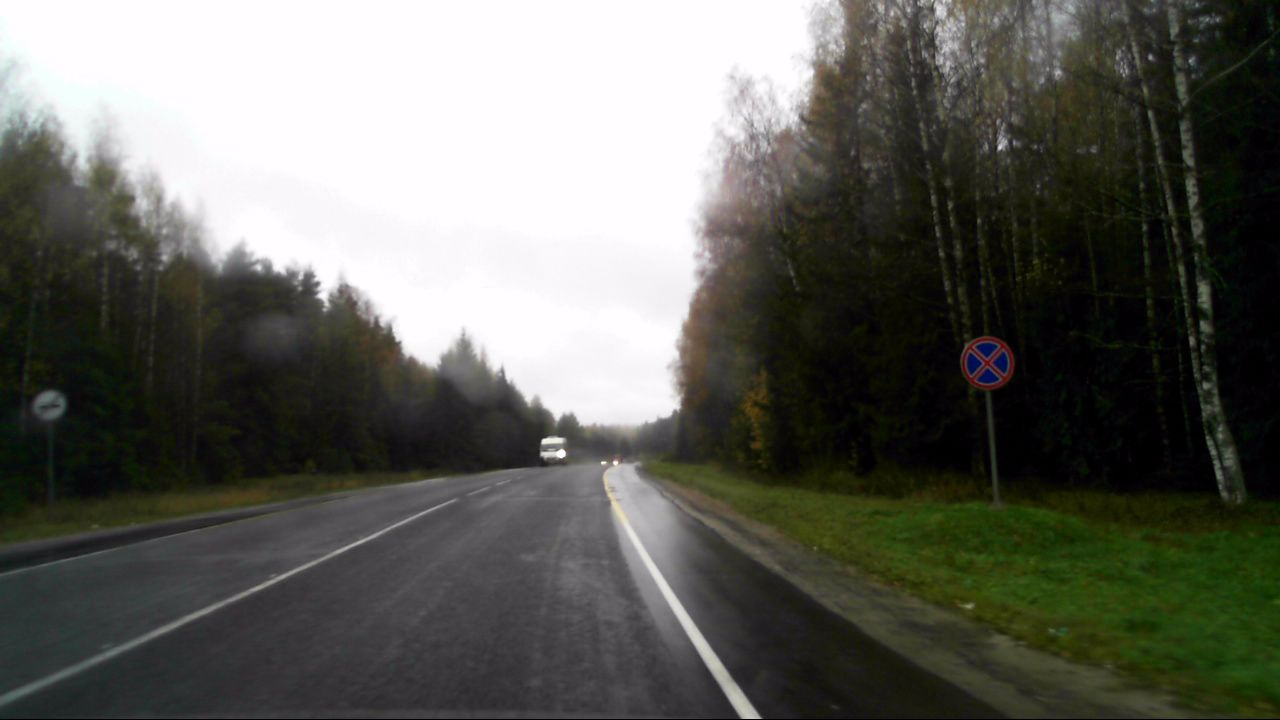No Parking: (962, 336, 1017, 391)
